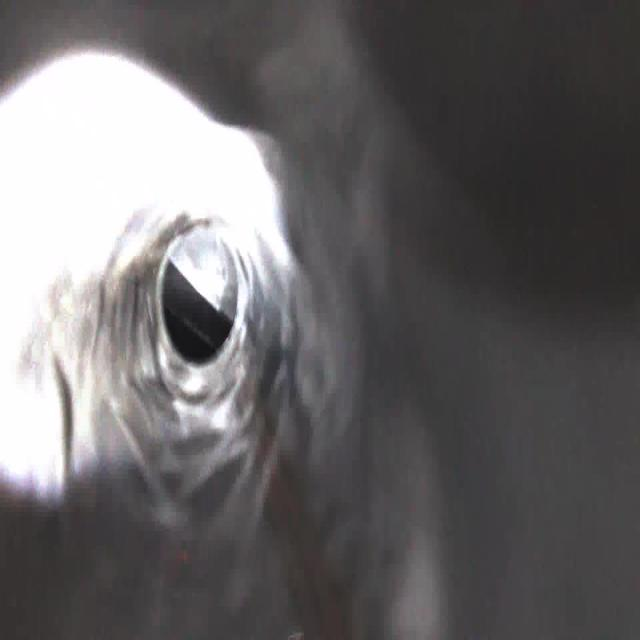crack: (110, 372, 176, 462), (84, 263, 153, 348), (181, 376, 242, 456)
